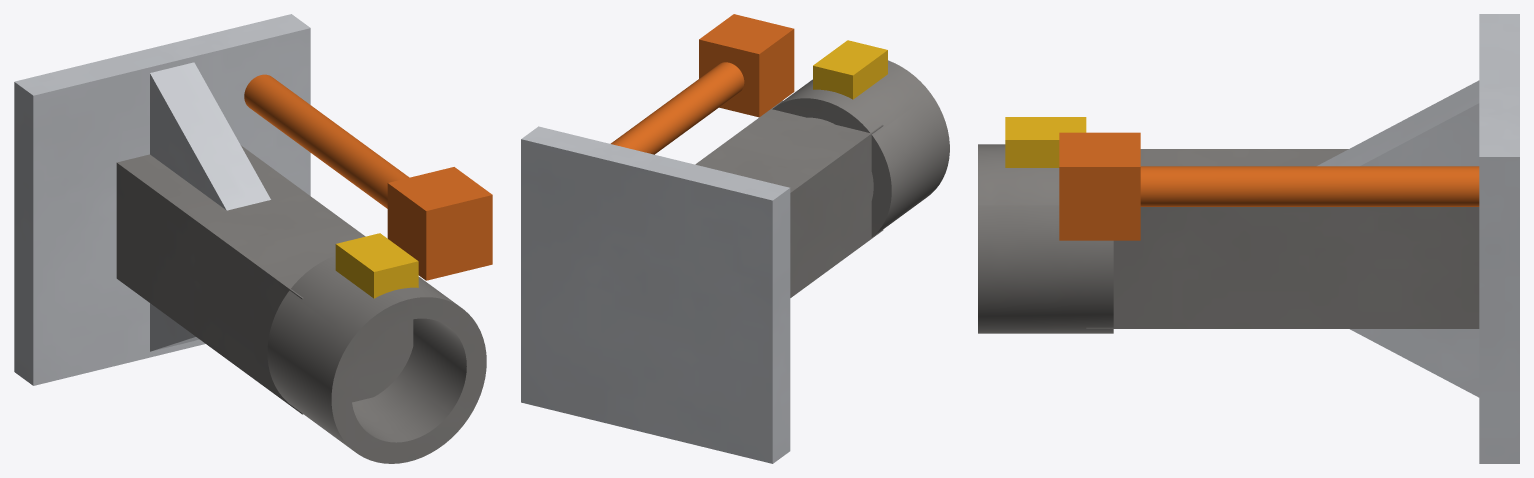
Rendered from rover37_hitch_coupler_passive.glb.
3 renders of one model, left to right at view 1: azimuth 30°, elevation 25°; view 2: azimuth 150°, elevation 25°; view 3: azimuth 270°, elevation 25°, orthographic. The views are drawn at different scales.
Parts seen in each view (by area): view 1: mount_plate, drawbar, hitch_socket, umbilical, gussets, latch; view 2: mount_plate, drawbar, hitch_socket, umbilical, latch; view 3: drawbar, umbilical, hitch_socket, mount_plate, gussets, latch.
Boxes of the visible parts, x1,y1,x2,y2 form: mount_plate: [14, 14, 310, 385]; drawbar: [116, 145, 413, 414]; hitch_socket: [267, 255, 486, 463]; umbilical: [244, 74, 492, 280]; gussets: [150, 62, 270, 351]; latch: [335, 233, 418, 298]; mount_plate: [521, 126, 790, 463]; drawbar: [695, 100, 883, 297]; hitch_socket: [772, 60, 949, 237]; umbilical: [610, 14, 794, 154]; latch: [813, 40, 887, 99]; drawbar: [1086, 149, 1479, 328]; umbilical: [1059, 132, 1479, 240]; hitch_socket: [978, 144, 1113, 333]; mount_plate: [1479, 14, 1519, 463]; gussets: [1317, 80, 1479, 397]; latch: [1005, 117, 1086, 167].
Bounding box in the file's own units: 0.25 × 0.25 × 0.4.
4 materials, 2 textured.
